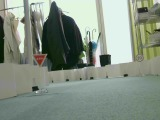stop: (30, 52, 48, 69)
